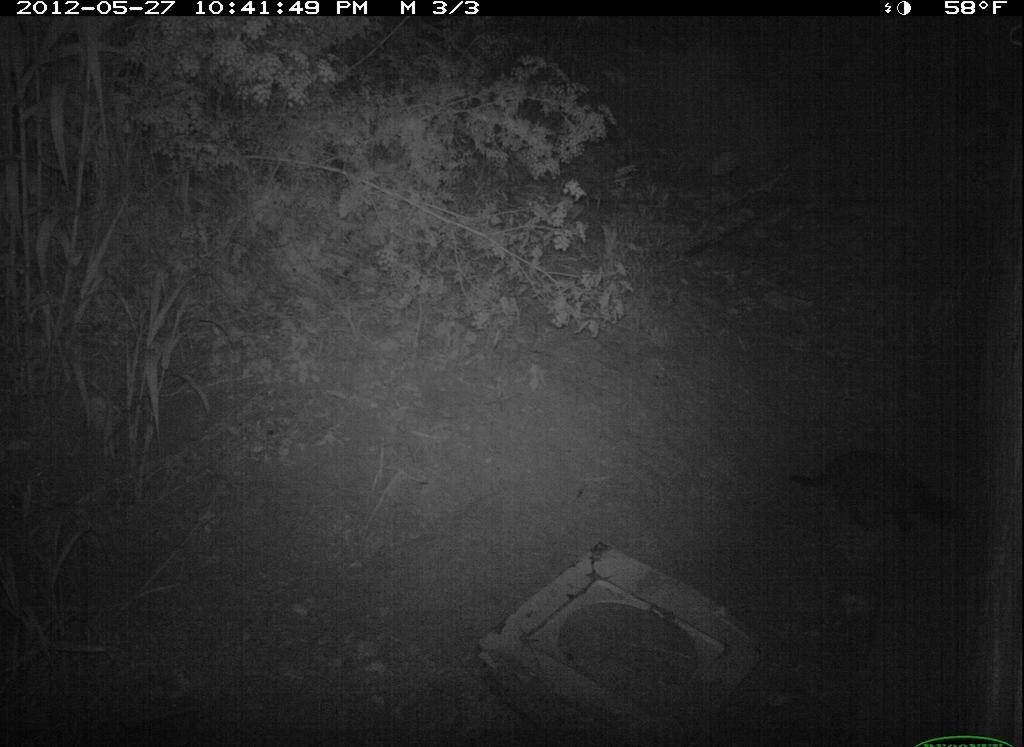cat: (785, 442, 964, 537)
